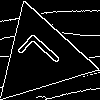L: (16, 31, 70, 84)
